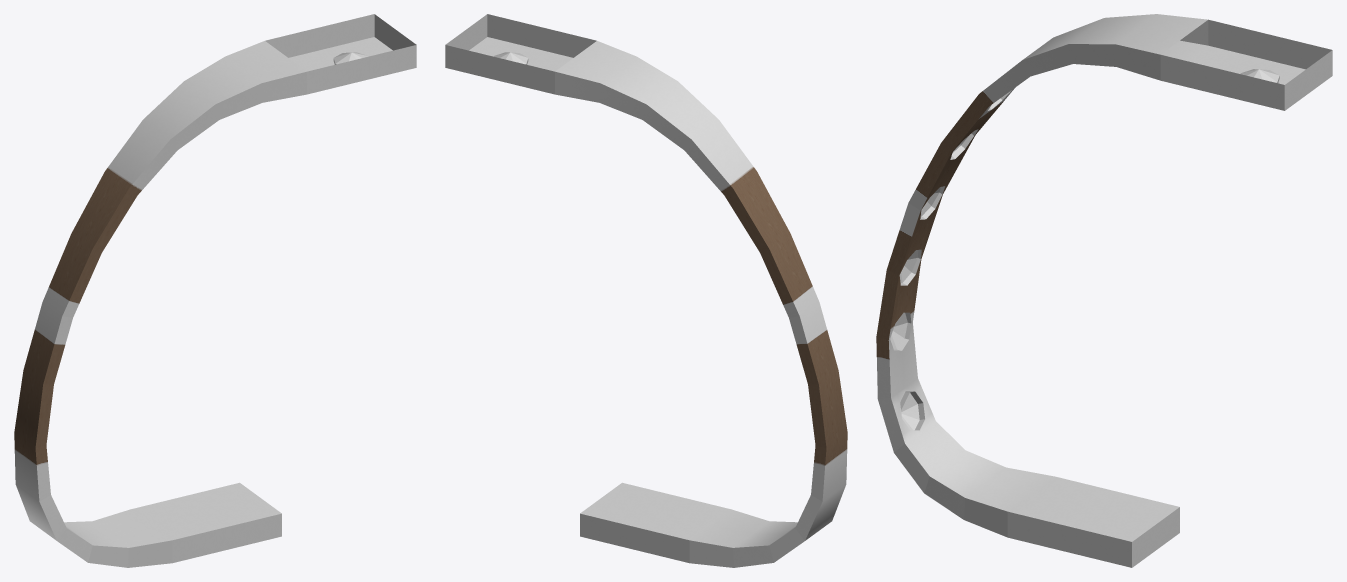
Rendered from Decor_LightBeam.fbx.
3 views of the same model, side by side, from view 1: azimuth 30°, elevation 25°; view 2: azimuth 150°, elevation 25°; view 3: azimuth 330°, elevation 25° (orthographic). The views are drawn at different scales.
Visible parts, largest first — view 1: Decor_LightBeam; view 2: Decor_LightBeam; view 3: Decor_LightBeam.
Boxes of the visible parts, left/top/right/bottom form: Decor_LightBeam: left=14, top=14, right=416, bottom=567; Decor_LightBeam: left=445, top=14, right=847, bottom=567; Decor_LightBeam: left=876, top=14, right=1332, bottom=567.
Size of the model in its own units: 254 by 300 by 50.
